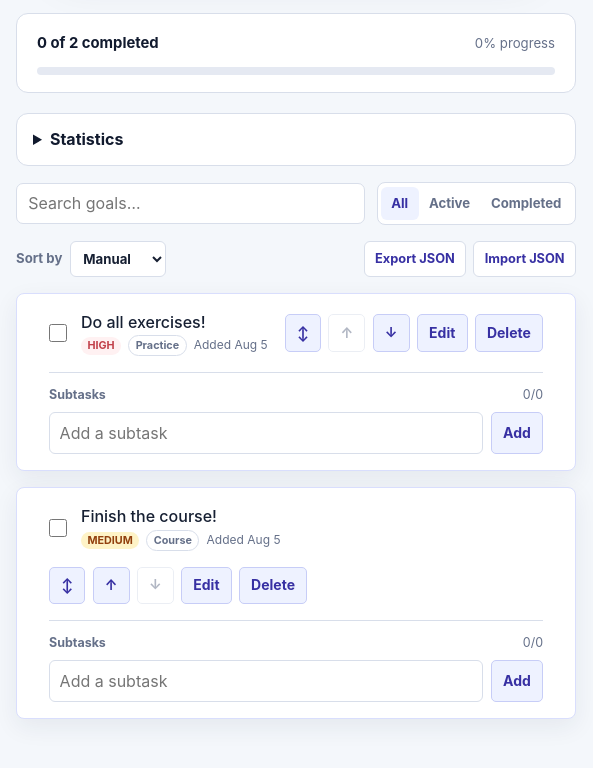
Test: Course Goals › adds, completes, and deletes a subtask
The width and height of the screenshot is (593, 768).
(page scrolled)
Type "Submit the final project" into the field named "Add a subtask to Finish the course!" at (266, 681), box [49,660,483,702]
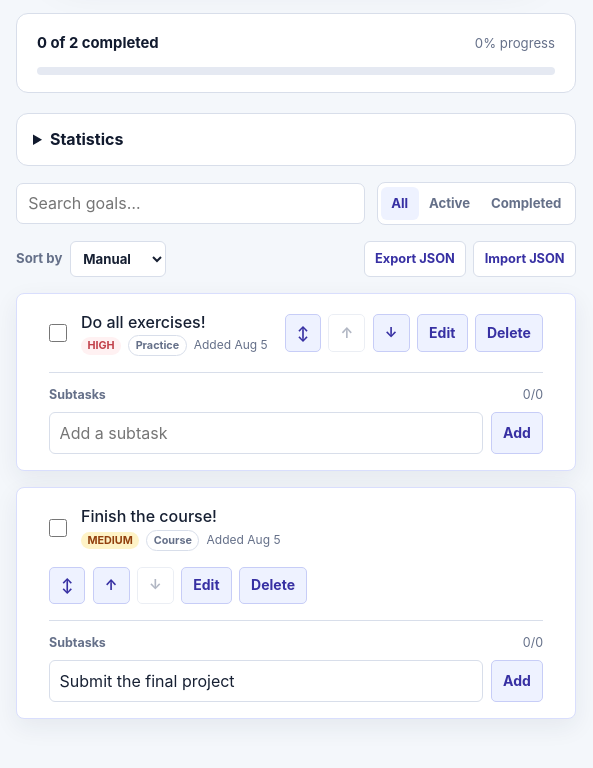
Click the 2nd button "Add" at (517, 681), box [491,660,543,702]
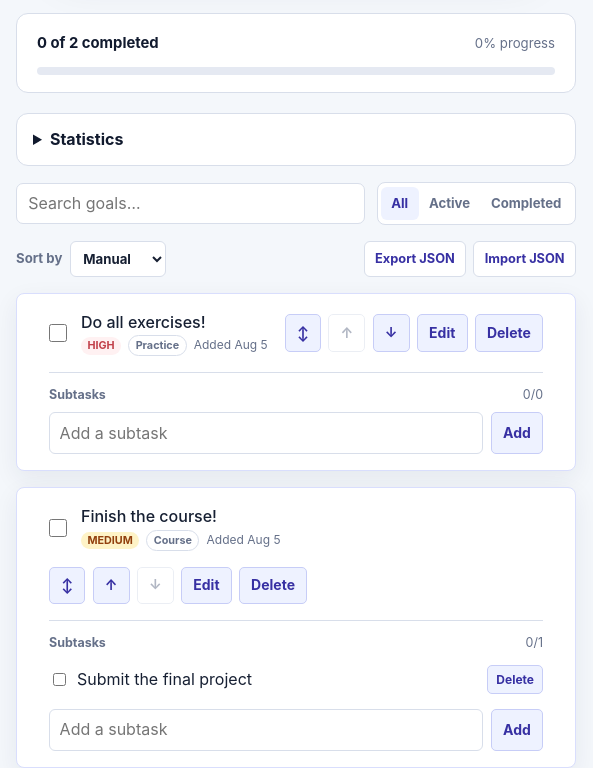
Click the checkbox labelled "Submit the final project" at (60, 680), box [53,673,66,686]
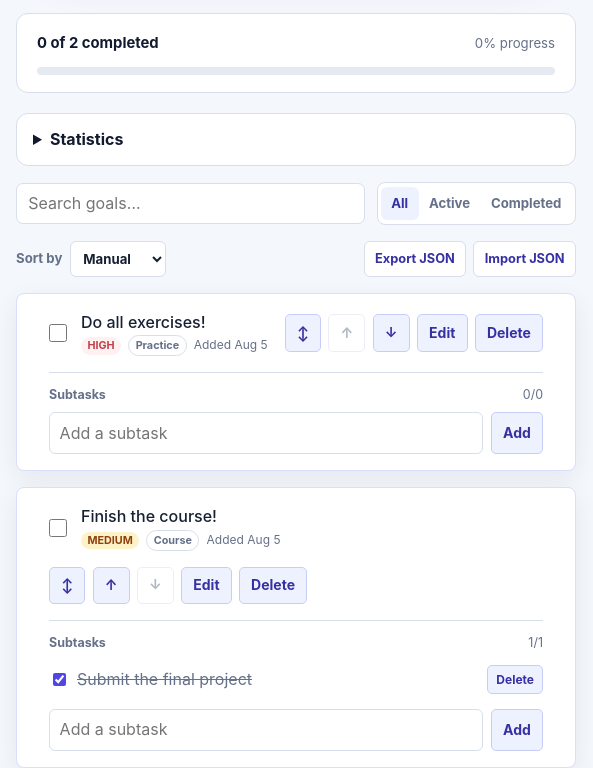
Result: the text "1/1" is shown at [528,633,543,653]
Click the button with aria-label "Delete subtask: Submit the final project" at (515, 680), box [487,665,543,694]
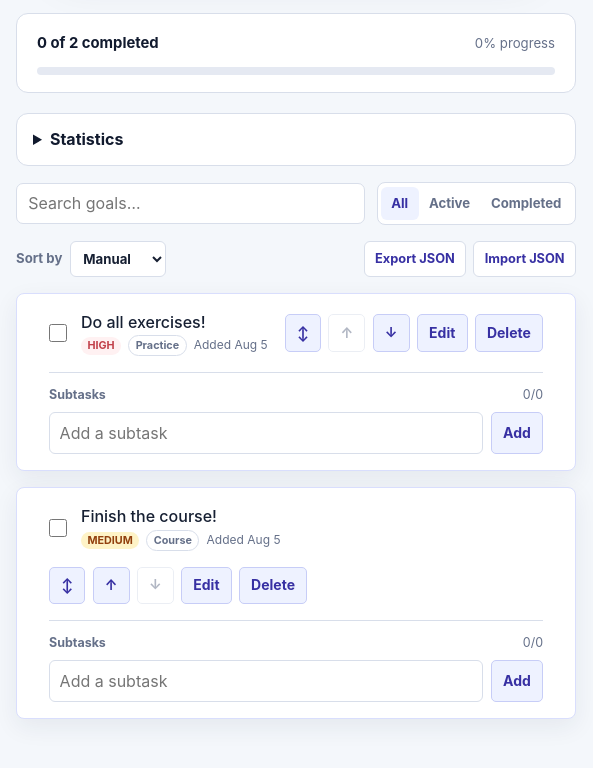
Result: the text "Submit the final project" is gone
